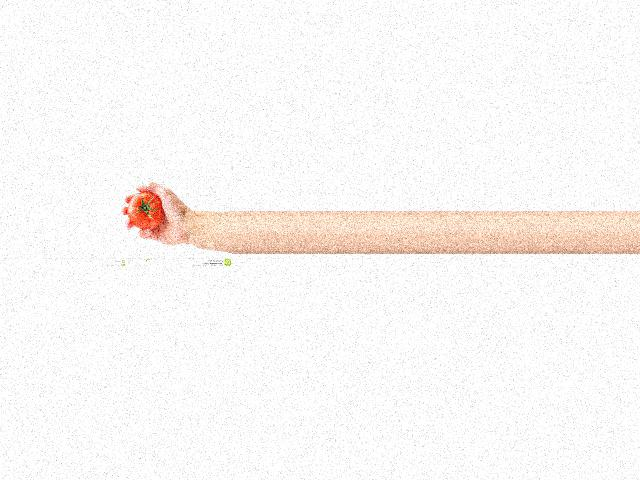tomato: (127, 192, 163, 230)
